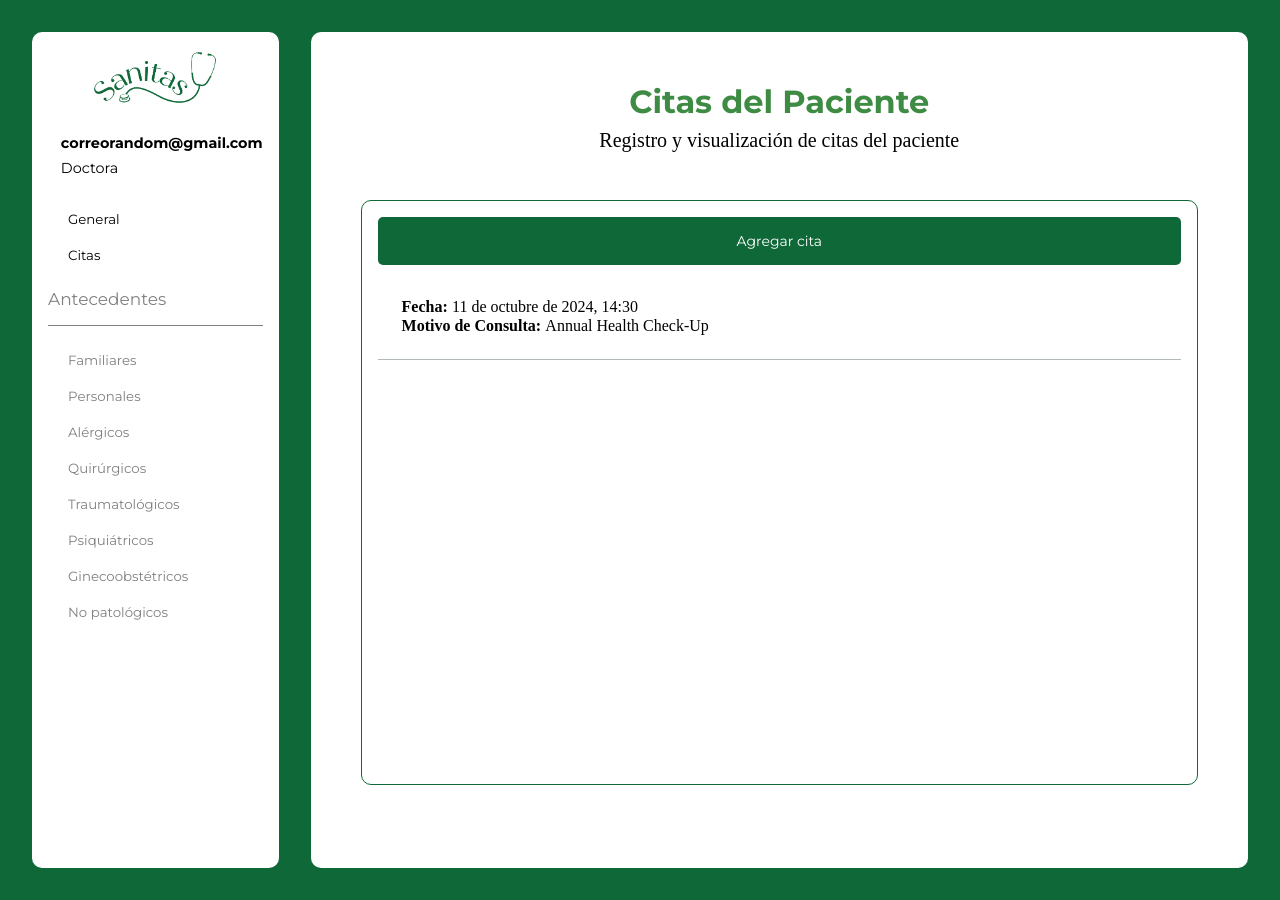
Test: StudentAppointments Component Tests › opens new form on button click
Expected: the text "Agregar cita" is shown, [736,232,822,250]
Click the button "Agregar cita" at point(779, 241), box [378,217,1181,265]
(page scrolled)
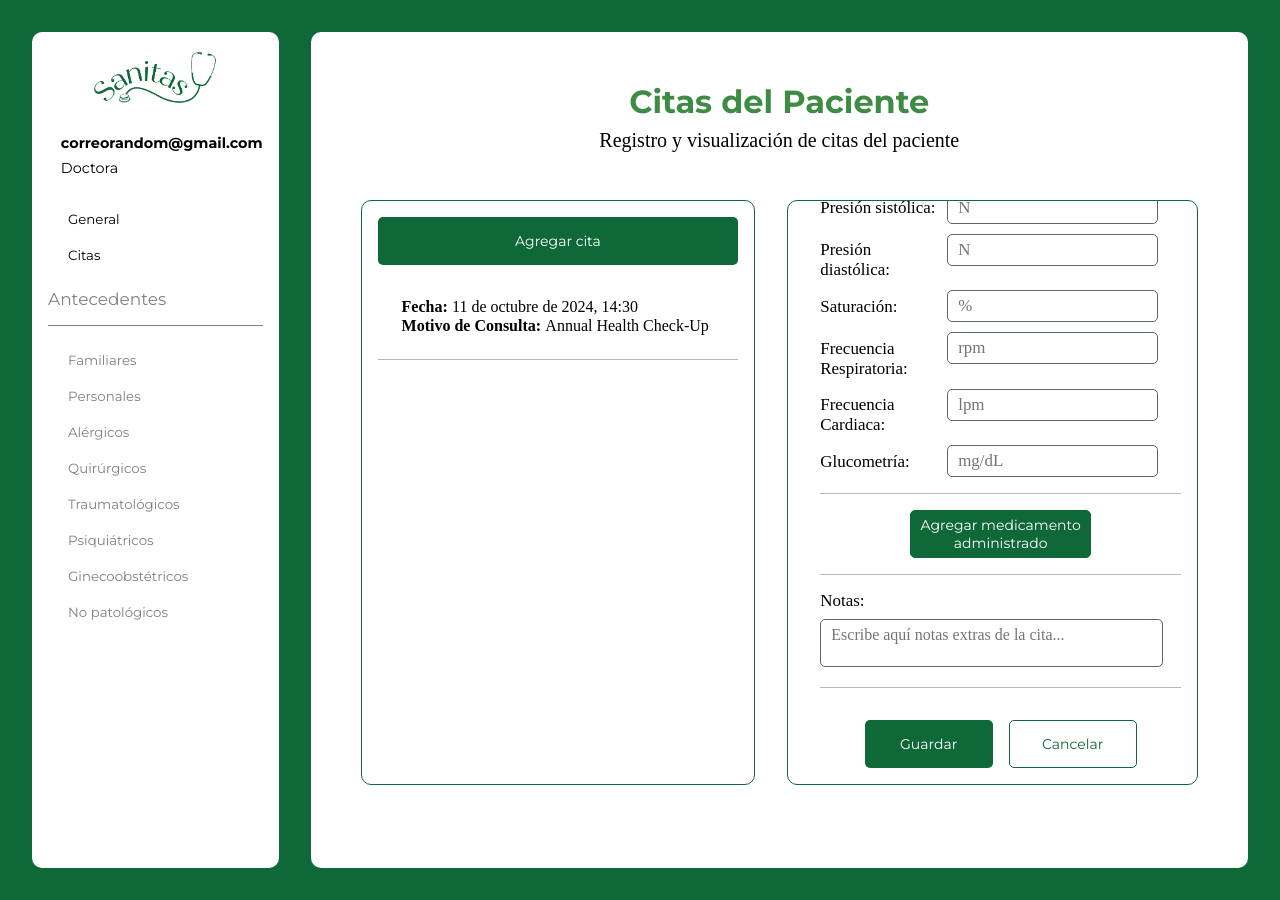
Now the text "Guardar" is shown, box [900,735,957,753]
